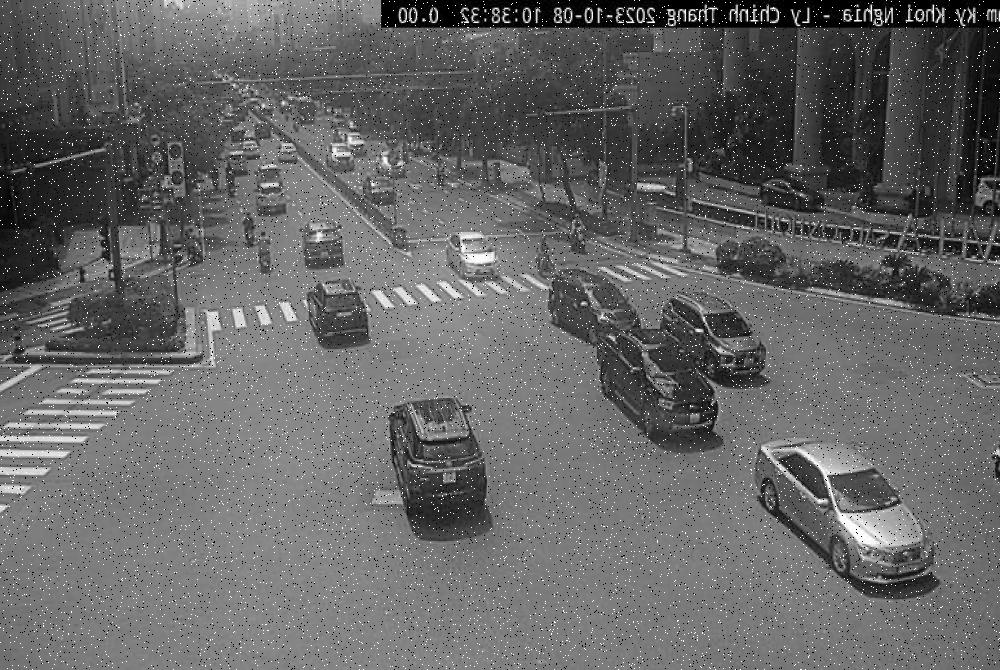car: (748, 426, 949, 590), (588, 325, 721, 478), (386, 386, 487, 542), (532, 258, 648, 365), (660, 282, 774, 371), (302, 267, 376, 362), (752, 171, 830, 211), (451, 226, 509, 278), (299, 210, 346, 270), (313, 136, 356, 196), (350, 168, 400, 213), (249, 173, 291, 222), (286, 135, 304, 162)
